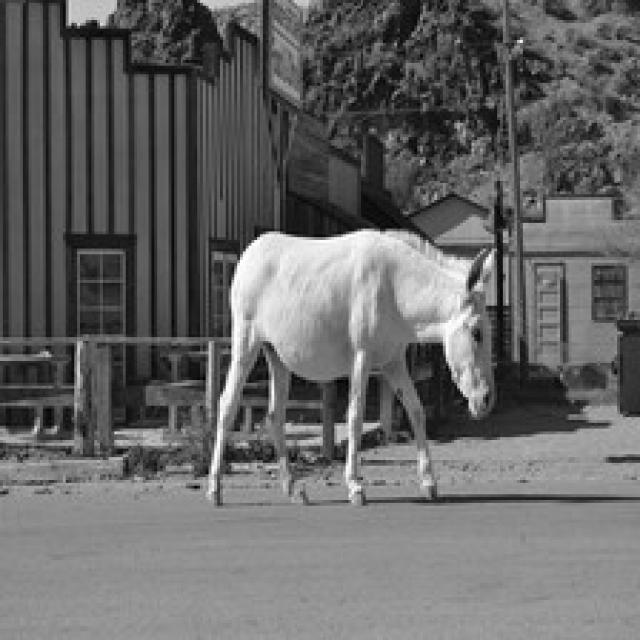Donkey: (203, 225, 497, 506)
